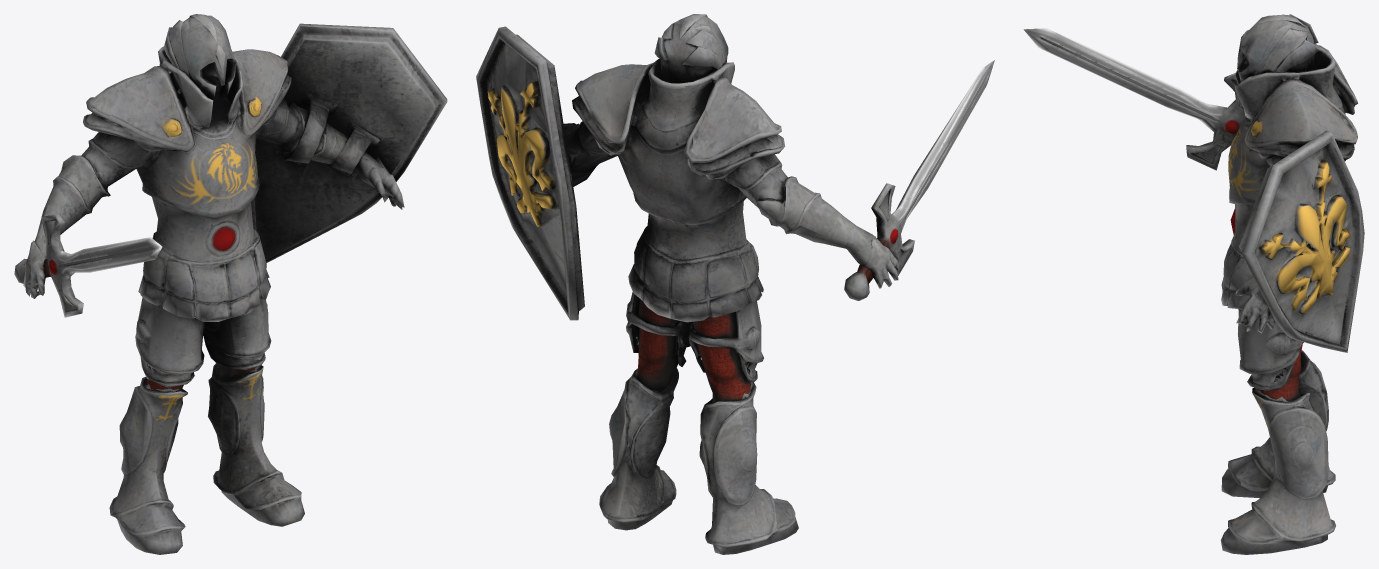
File: armored-knight-mobile.glb
3 views of the same model, side by side, from view 1: azimuth 30°, elevation 25°; view 2: azimuth 150°, elevation 25°; view 3: azimuth 270°, elevation 25° (orthographic).
Parts seen in each view (by area): view 1: Group61487.001; view 2: Group61487.001; view 3: Group61487.001.
Part boxes in pixels (x1,y1,x2,y2): Group61487.001: [14, 14, 447, 554]; Group61487.001: [476, 14, 994, 554]; Group61487.001: [1023, 14, 1364, 554].
Bounding box in the file's own units: 4.82 × 5.6 × 3.43.
1 material, 1 textured.
